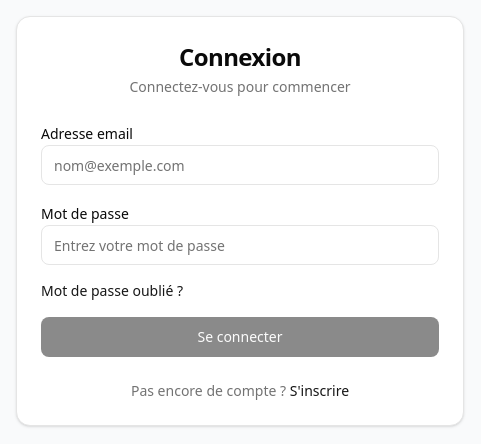
Login Component › devrait désactiver le bouton pendant la soumission
# Remplir le formulaire
Type "test@exemple.com" into the field labelled "Adresse email".
click(240, 165); type("test@exemple.com")  # box [41,145,439,185]
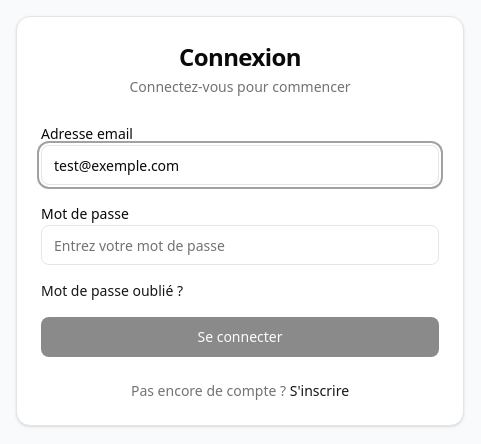
Type "Password123!" into the password field labelled "Mot de passe".
click(240, 245); type("Password123!")  # box [41,225,439,265]
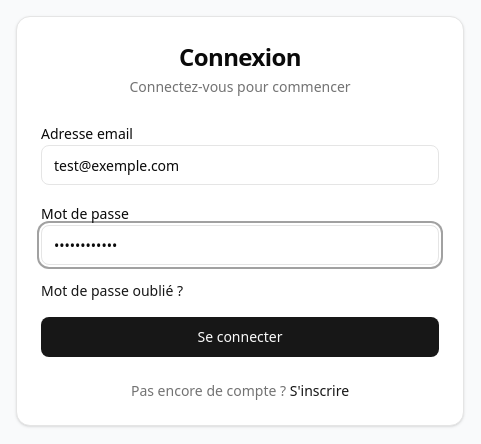
# Soumettre le formulaire
Click the button "Se connecter".
click(240, 337)  # box [41,317,439,357]
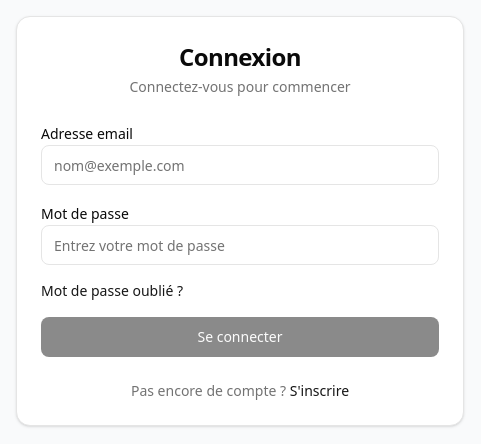
Check: the button "Se connecter" is disabled, box [41,317,439,357]
Check: the field labelled "Adresse email" is empty, box [41,145,439,185]
Check: the password field labelled "Mot de passe" is empty, box [41,225,439,265]
